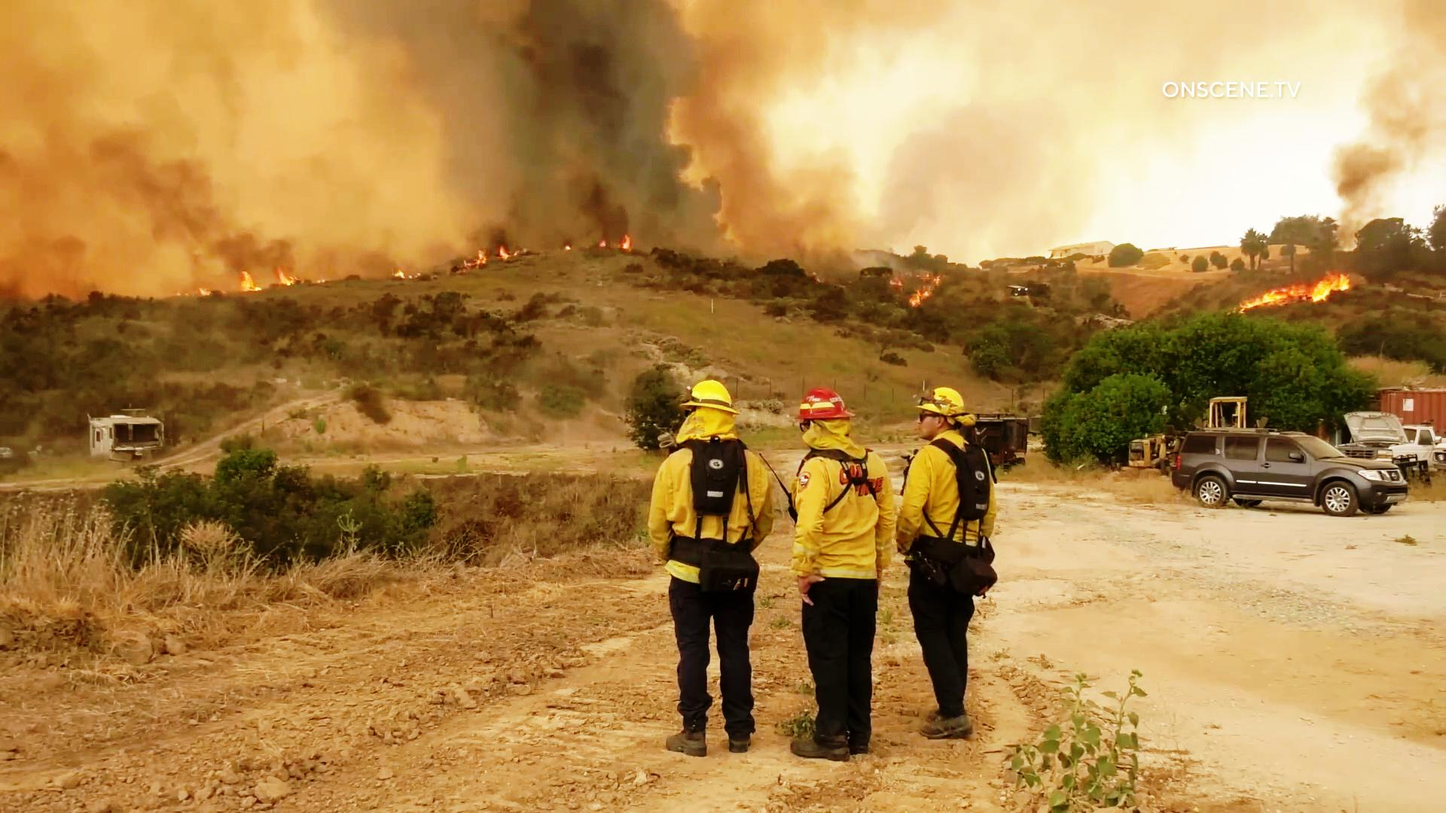smoke: (1328, 78, 1413, 225)
